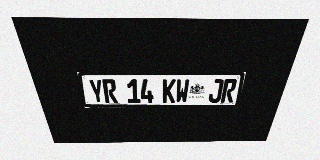1: (126, 79, 140, 103)
4: (140, 79, 153, 103)
J: (208, 79, 224, 103)
K: (162, 79, 176, 103)
R: (220, 79, 238, 102), (102, 79, 118, 103)
W: (175, 79, 190, 103)
Y: (88, 79, 105, 103)
